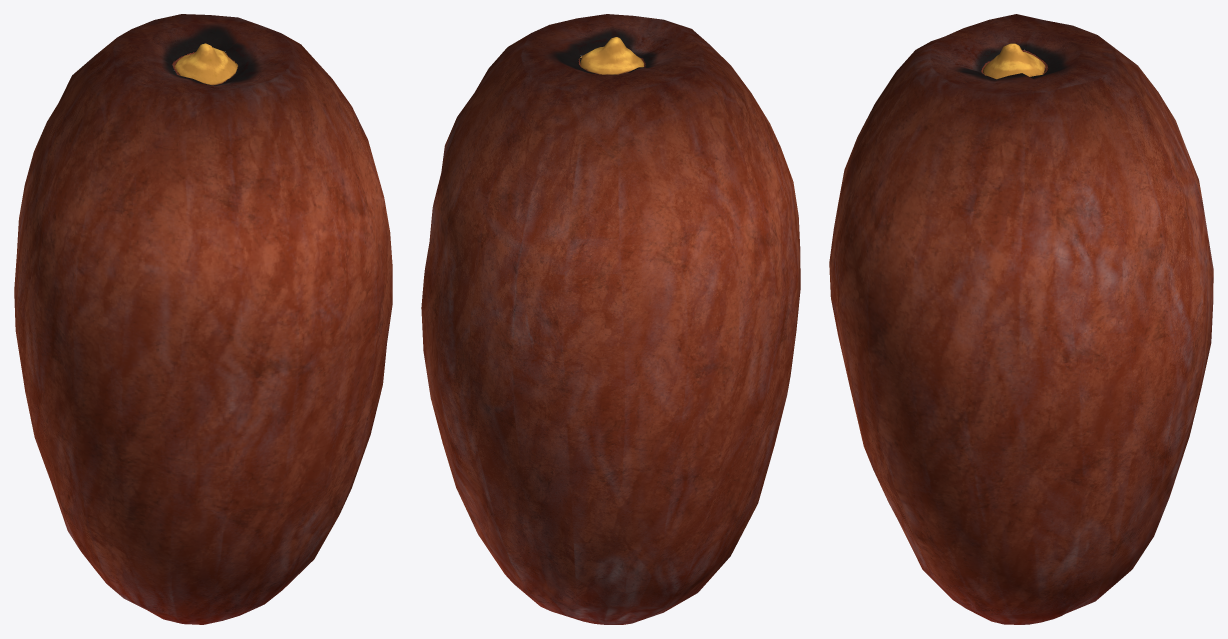
The model's file is Row_Date_v0001.fbx.
3 views of the same model, side by side, from view 1: azimuth 30°, elevation 25°; view 2: azimuth 150°, elevation 25°; view 3: azimuth 270°, elevation 25° (orthographic).
Visible parts, largest first — view 1: Row_Date; view 2: Row_Date; view 3: Row_Date.
Part boxes in pixels (<box>): Row_Date: <box>14,14,392,624</box>; Row_Date: <box>421,14,800,624</box>; Row_Date: <box>829,14,1213,624</box>.
Bounding box in the file's own units: 3.62 × 6.03 × 3.68.
Materials: 1 (1 with a texture image).
